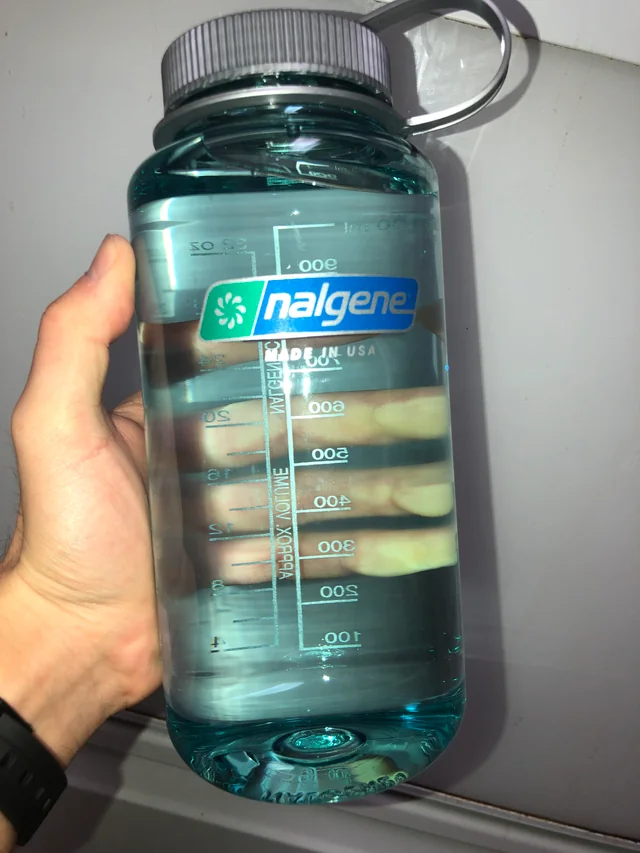bottle: (126, 1, 514, 809)
